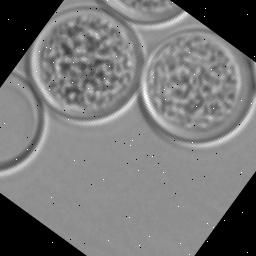picoshell: (25, 4, 145, 127), (138, 25, 256, 150), (0, 70, 49, 178), (95, 0, 189, 32)
